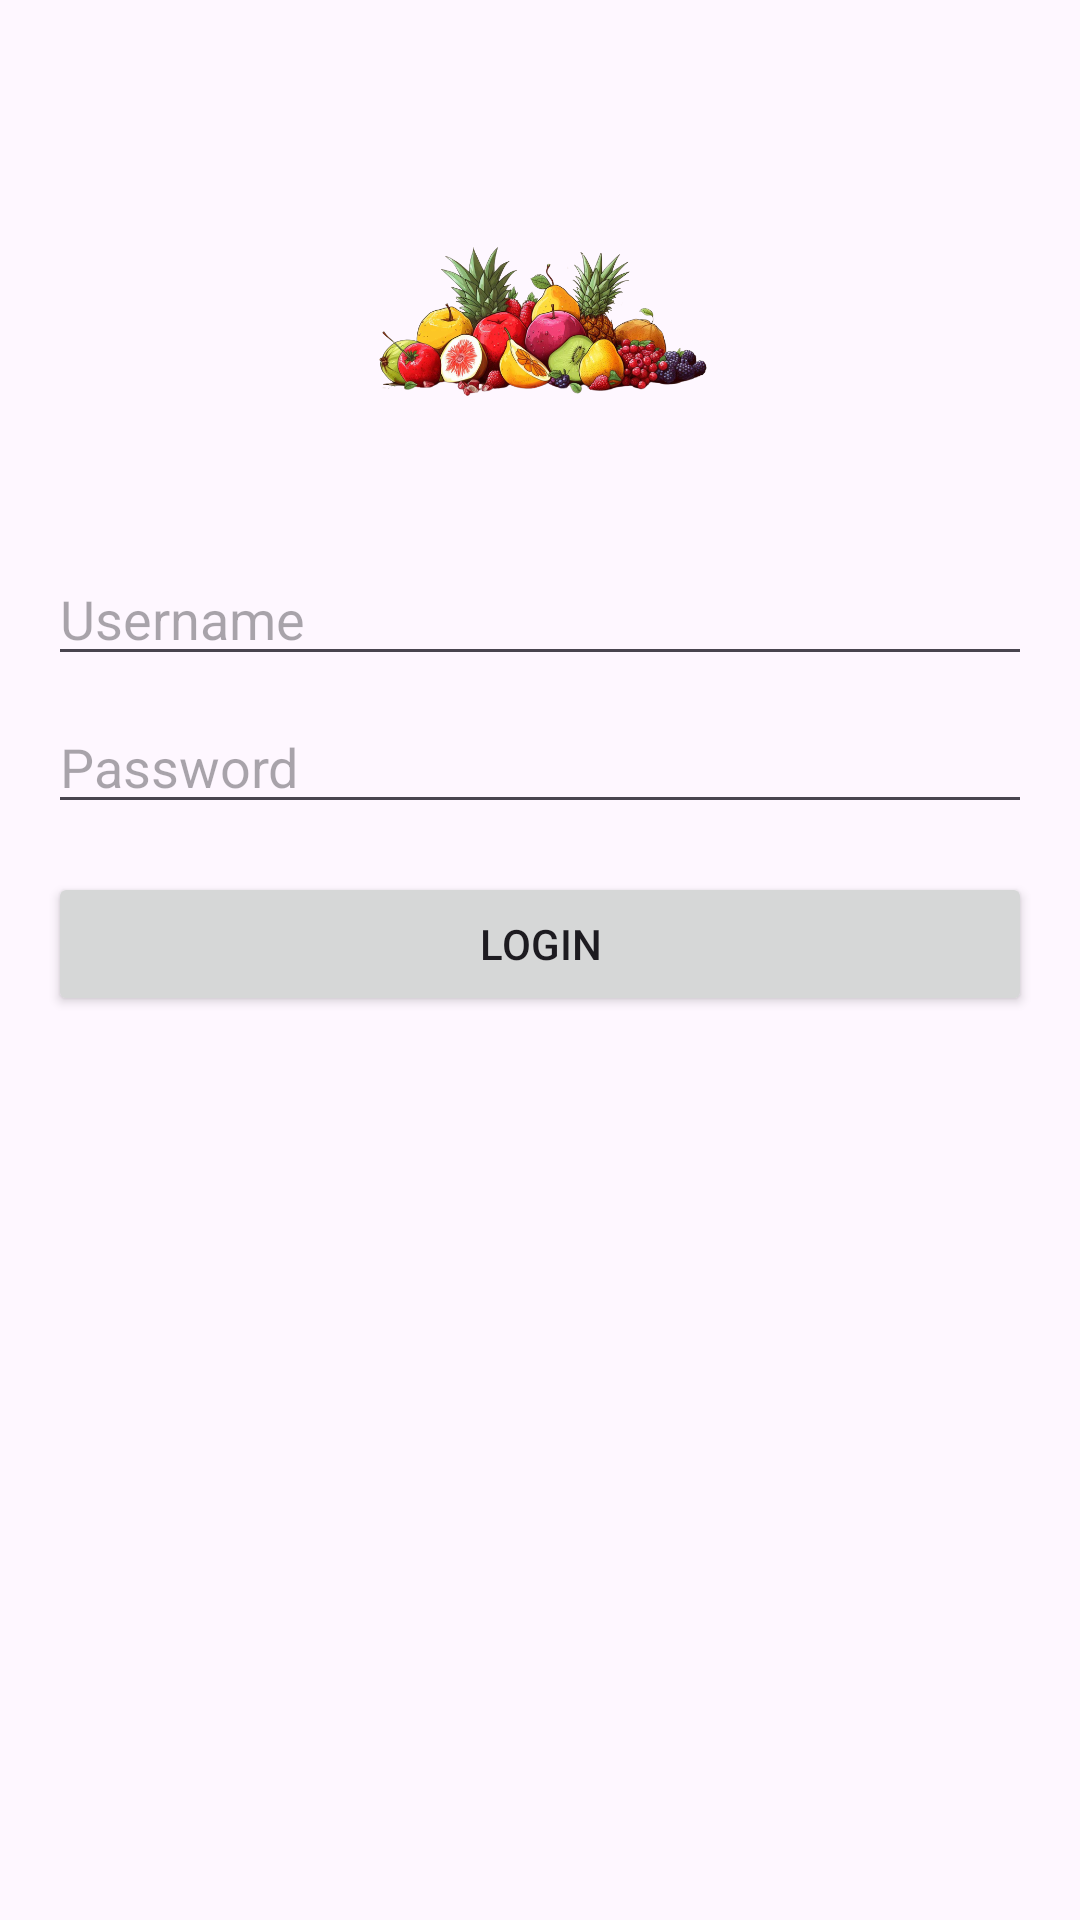

Screen size 1080*1920. Icon name, then its center in pixels as [x,y]:
buah: [543,321]
